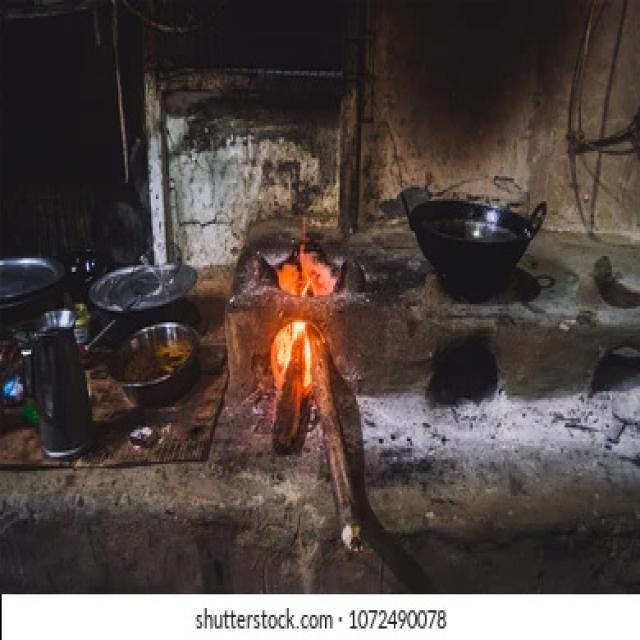fire: (277, 320, 311, 386)
